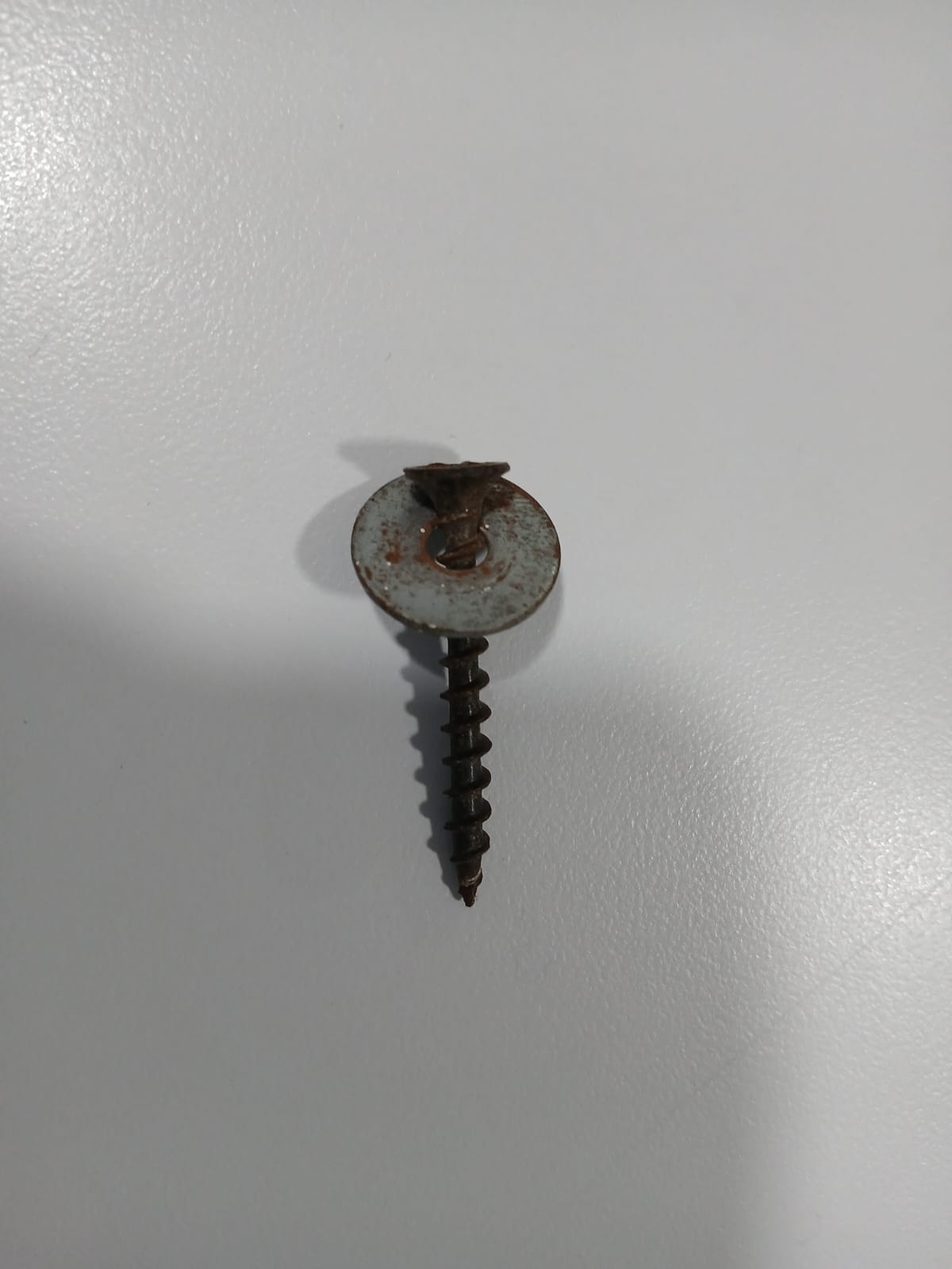Metal: (351, 457, 563, 908)
